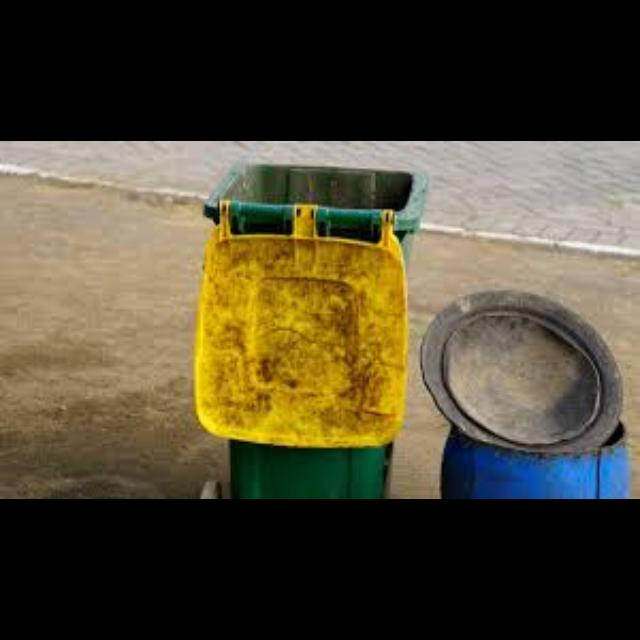Trash_Can_Empty: (194, 161, 429, 499)
